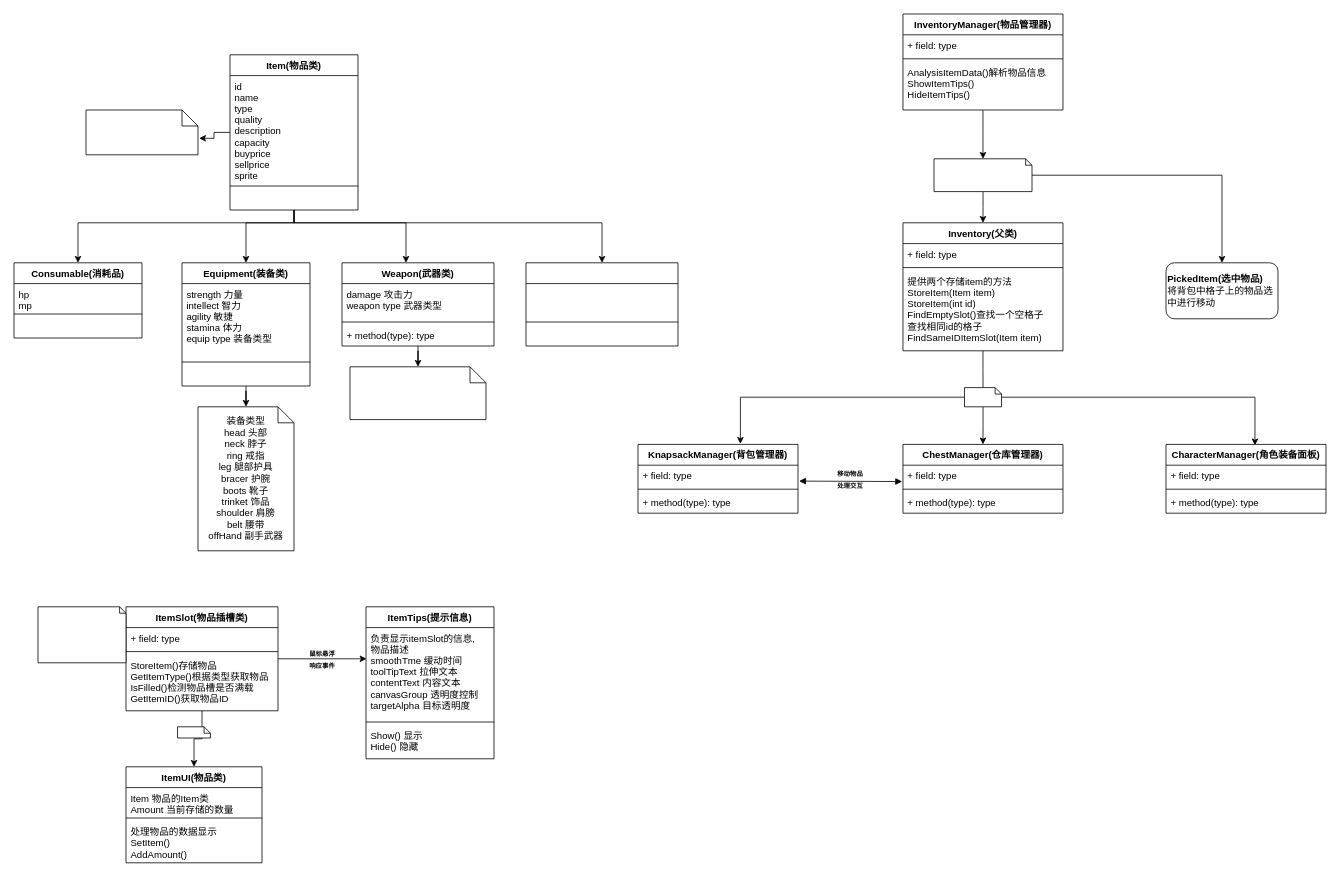
Image size: 1340x879. Some labels were removed from this diagram. The centre of each missing label's shape, as x and y in pixels:
ItemSlot负责管理插槽的物品数据,进行存储,持有数量增减等,具体由ItemUI来执行表现: (81,634)
Material(材料类): (601,304)
weapon type 武器类型 offHand mainHand: (417,393)
持有: (193,732)
物品类型 消耗品 装备 武器 材料: (141,132)
继承: (983,397)
通过物品管理器桥接背包和仓库,进行数据交互和通信: (982,175)
